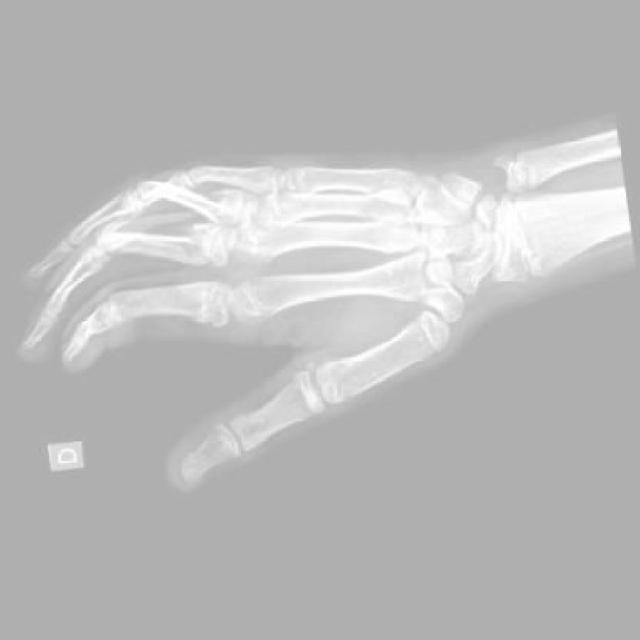Fracture: (171, 219, 230, 270), (191, 186, 244, 231)
